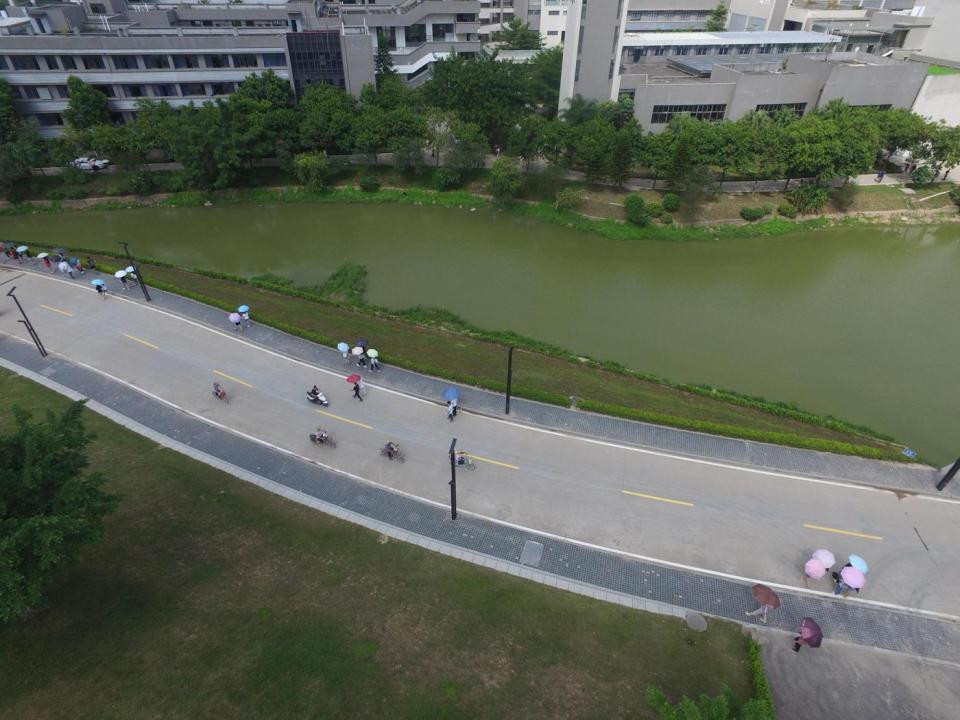car: (68, 157, 105, 170)
